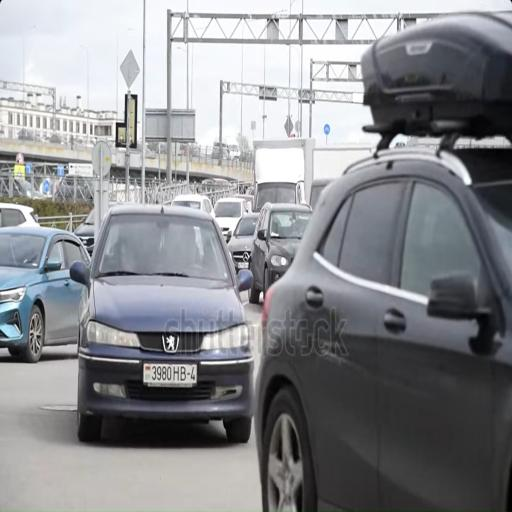License plates: (143, 364, 197, 387), (238, 263, 248, 268)
